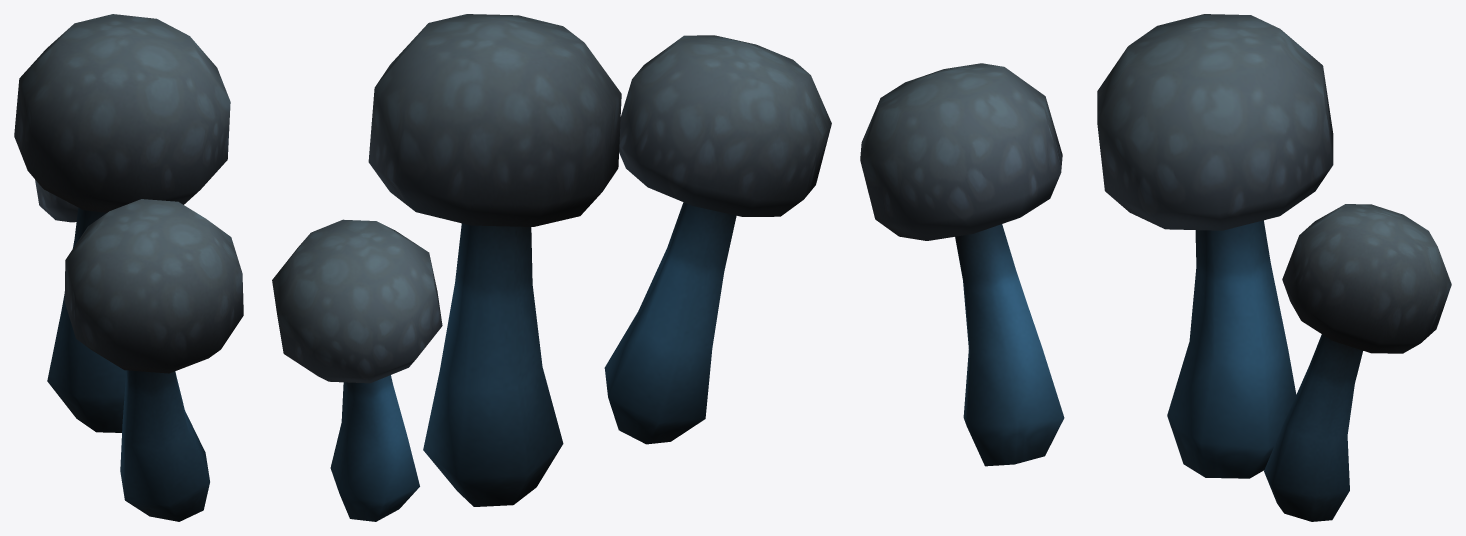
Rendered from Mushroom_02.FBX.
The picture shows the model from 3 angles, left to right: view 1: azimuth 30°, elevation 25°; view 2: azimuth 150°, elevation 25°; view 3: azimuth 270°, elevation 25°; orthographic projection. The views are drawn at different scales.
Visible parts, largest first — view 1: Mushroom2; view 2: Mushroom2; view 3: Mushroom2.
Part boxes in pixels (bbox=[...]): Mushroom2: bbox=[14, 14, 243, 521]; Mushroom2: bbox=[272, 14, 831, 521]; Mushroom2: bbox=[860, 14, 1451, 521].
Size of the model in its own units: 17.84 by 25.24 by 29.76.
